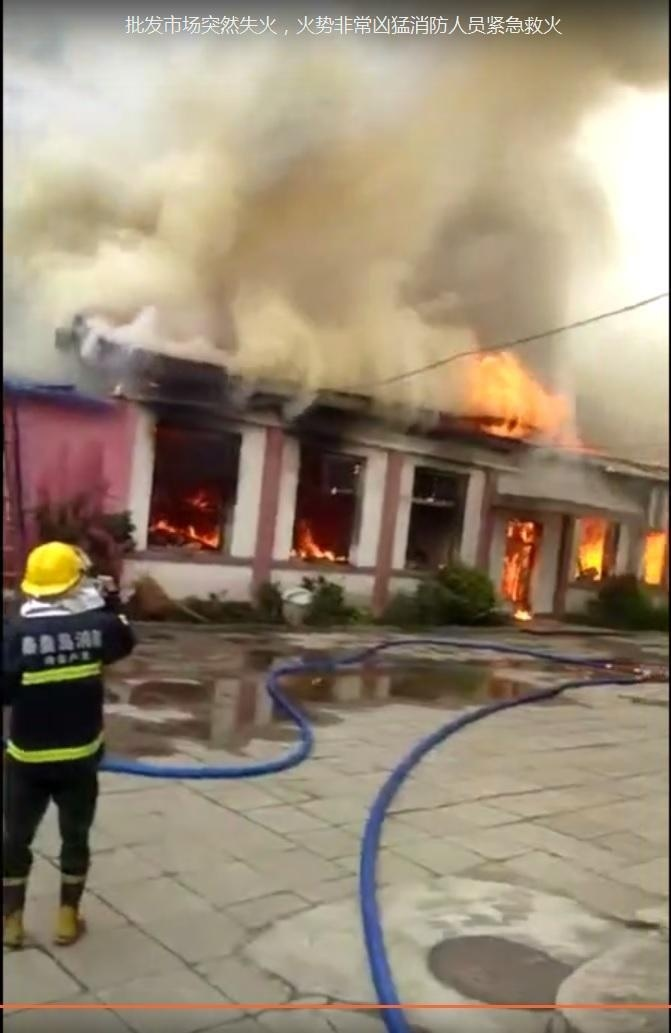fire: (468, 348, 567, 438), (154, 483, 224, 548), (500, 518, 540, 614), (293, 515, 345, 562), (573, 514, 609, 580), (642, 528, 667, 585)
